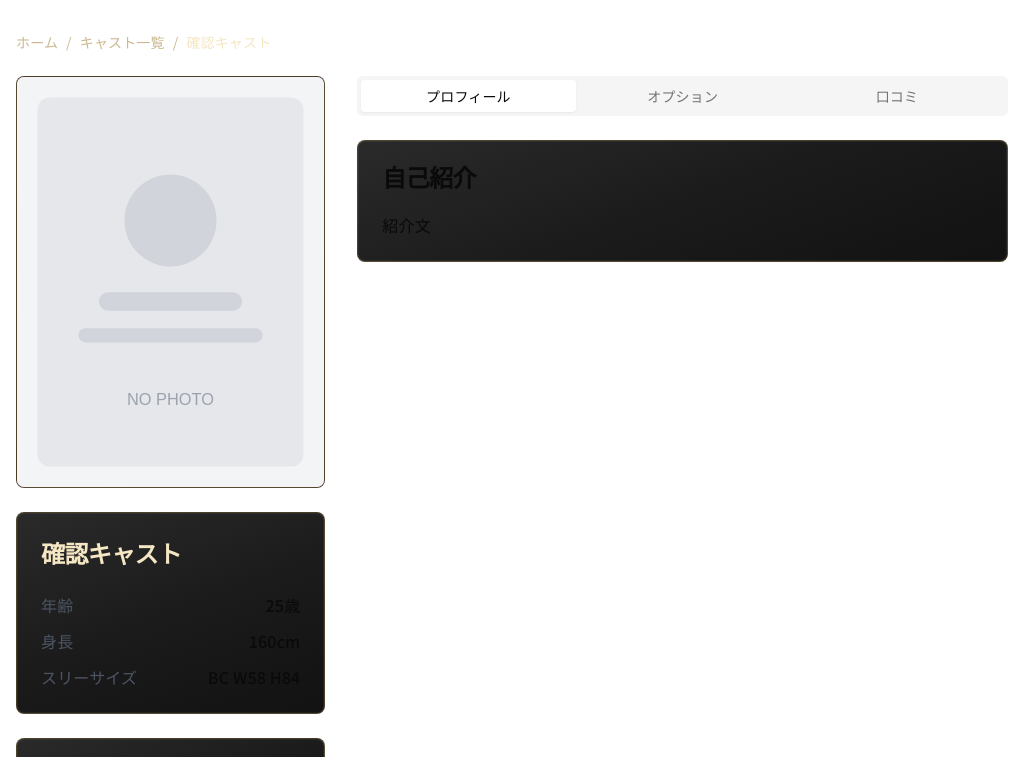
it: CastDetailContent › shows migrated option names and prices supplied by the selected store
Later steps or results of the test are not shown.
Click the tab "オプション".
click(683, 96)  # box [576,80,790,112]
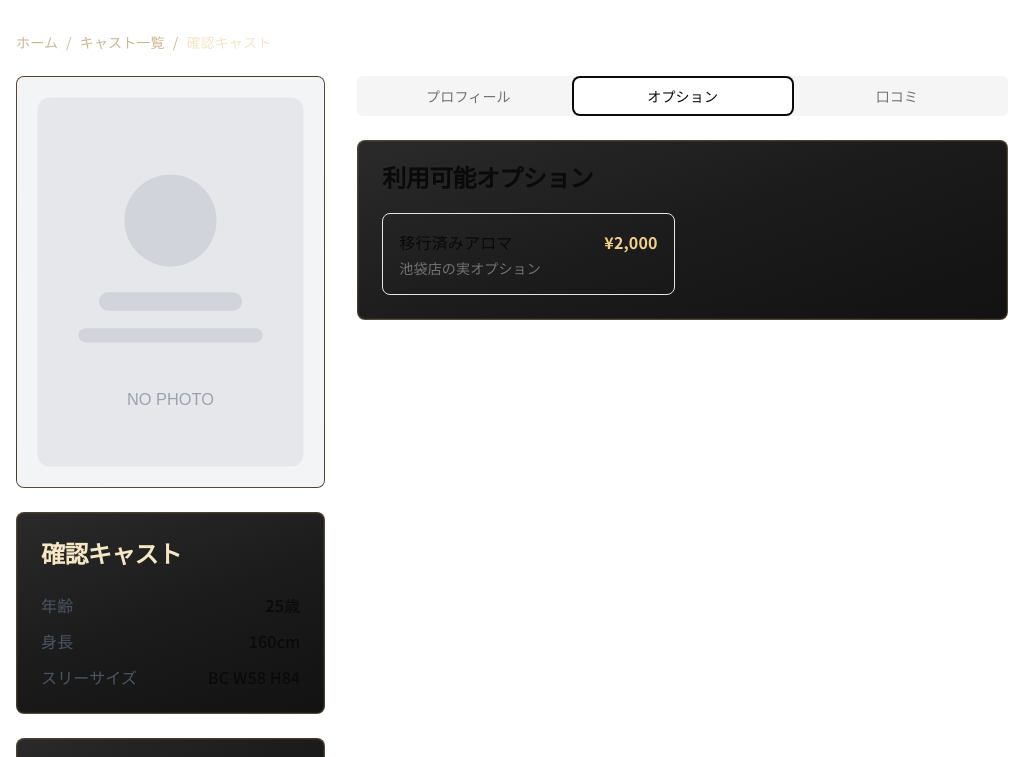
Check: the heading "移行済みアロマ" is shown, box [399,230,512,254]
Check: the text "池袋店の実オプション" is shown, box [399,258,541,278]
Check: the text "¥2,000" is shown, box [604,230,658,254]
